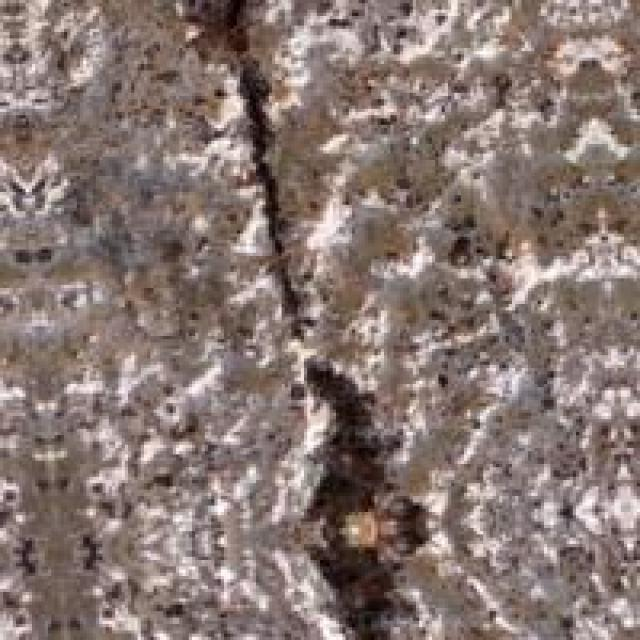Crack: (202, 3, 448, 624)
